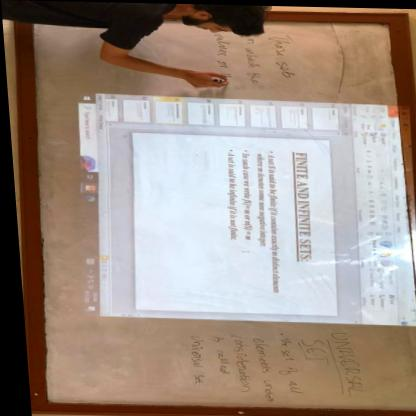Handwritten text: (323, 325, 363, 397), (172, 334, 208, 389), (246, 332, 273, 404), (270, 333, 297, 394), (267, 32, 301, 78), (226, 331, 249, 396), (203, 330, 229, 377), (205, 29, 233, 71), (239, 46, 267, 85), (293, 335, 326, 365)
Lecturer: (7, 4, 281, 65)
Whiteboard: (14, 14, 416, 413)
